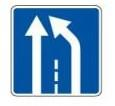road_sign: (10, 4, 104, 97)
